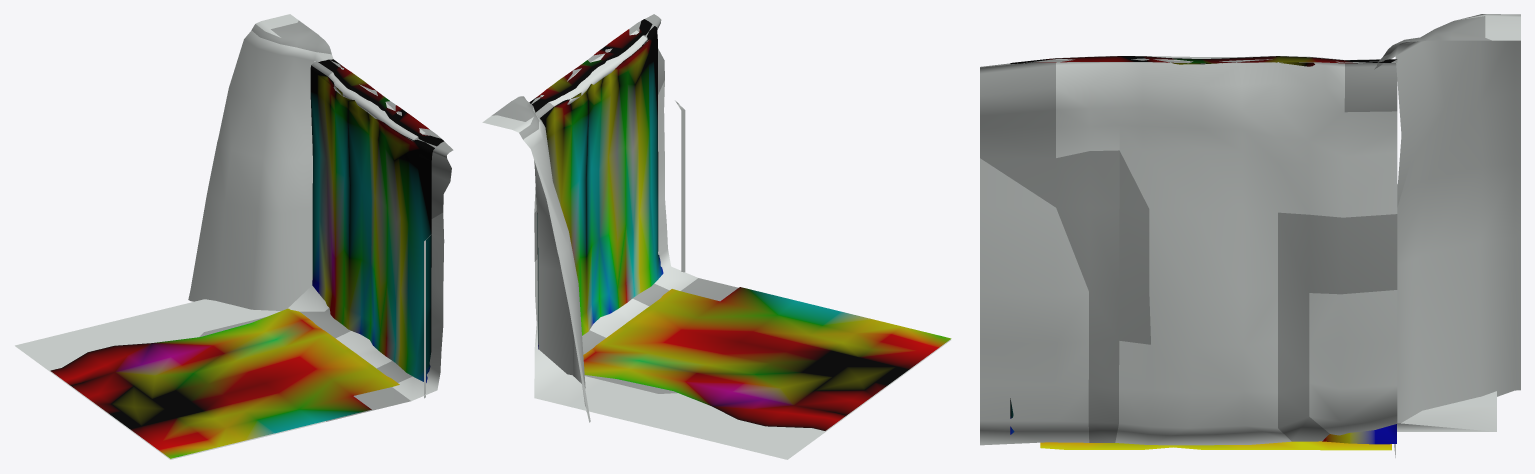
3 renders of one model, left to right at view 1: azimuth 30°, elevation 25°; view 2: azimuth 150°, elevation 25°; view 3: azimuth 270°, elevation 25°, orthographic. The views are drawn at different scales.
Visible parts, largest first — view 1: G:\FFXIV-MapTools\exports\g3f2\bg\ex2\01_gyr_g3\fld\g3f2\bgp (×10); view 2: G:\FFXIV-MapTools\exports\g3f2\bg\ex2\01_gyr_g3\fld\g3f2\bgp (×8); view 3: G:\FFXIV-MapTools\exports\g3f2\bg\ex2\01_gyr_g3\fld\g3f2\bgp (×8).
Boxes of the visible parts, left/top/right/bottom form: G:\FFXIV-MapTools\exports\g3f2\bg\ex2\01_gyr_g3\fld\g3f2\bgp (×10): left=15, top=14, right=453, bottom=459; G:\FFXIV-MapTools\exports\g3f2\bg\ex2\01_gyr_g3\fld\g3f2\bgp (×8): left=482, top=19, right=951, bottom=459; G:\FFXIV-MapTools\exports\g3f2\bg\ex2\01_gyr_g3\fld\g3f2\bgp (×8): left=980, top=14, right=1520, bottom=457.
Bounding box in the file's own units: 128 × 113 × 128.
